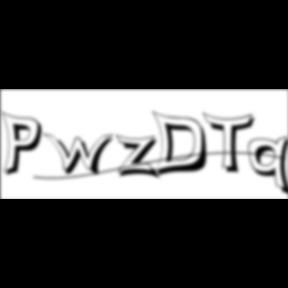D: (152, 110, 214, 180)
P: (1, 110, 48, 180)
T: (203, 112, 261, 176)
w: (43, 132, 121, 178)
z: (115, 134, 164, 182)
